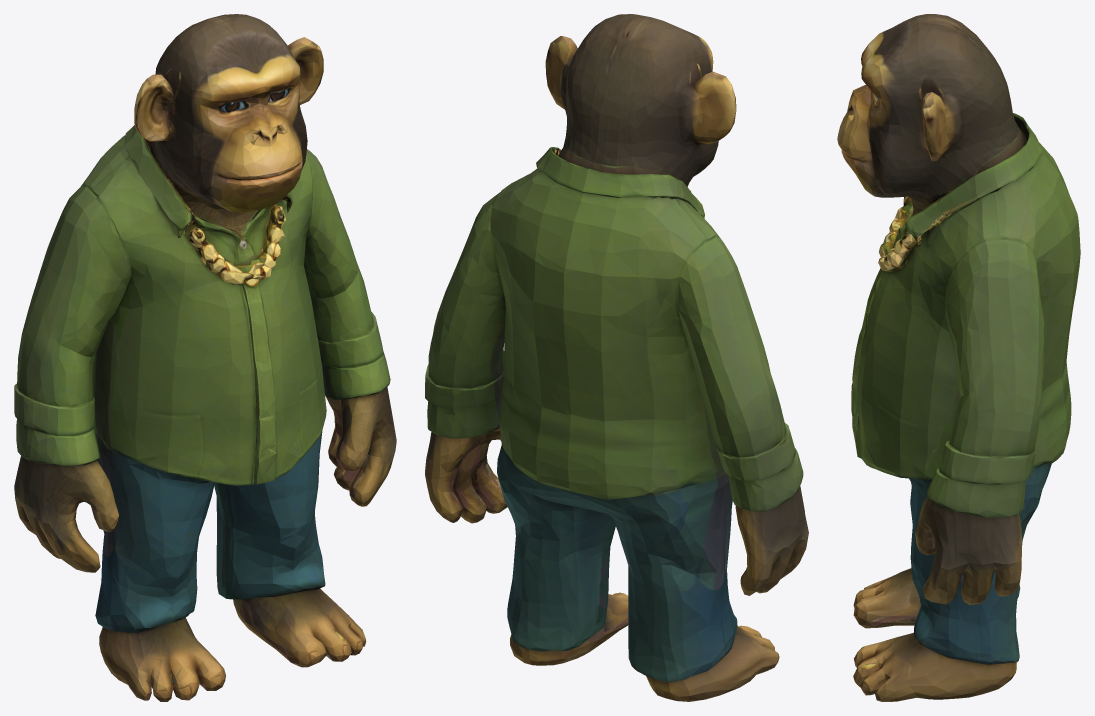
The model's file is Chimp_in_Style_0407155149_texture.fbx.
3 renders of one model, left to right at view 1: azimuth 30°, elevation 25°; view 2: azimuth 150°, elevation 25°; view 3: azimuth 270°, elevation 25°, orthographic.
Parts seen in each view (by area): view 1: temp; view 2: temp; view 3: temp.
Boxes of the visible parts, x1,y1,x2,y2 form: temp: (14, 14, 396, 701); temp: (425, 14, 808, 701); temp: (837, 14, 1080, 701).
Size of the model in its own units: 118 by 200 by 70.35.
1 material, 1 textured.
